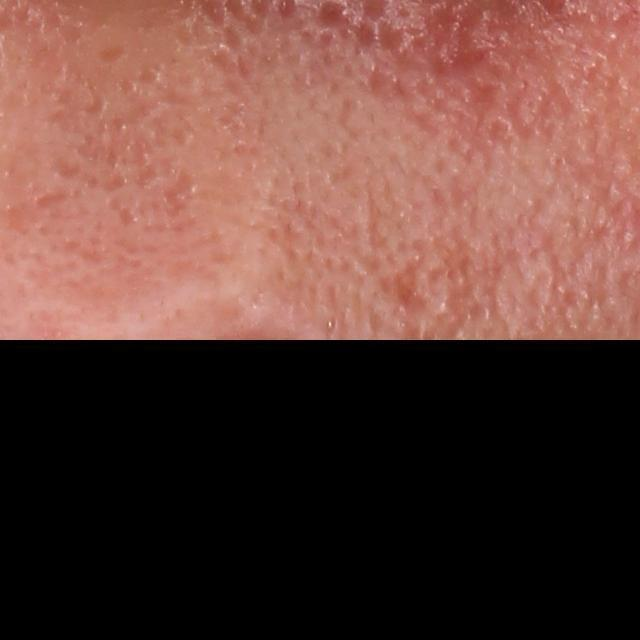atrophic_scar: (40, 75, 160, 187), (414, 216, 498, 363), (381, 233, 436, 319), (162, 164, 199, 213), (363, 186, 388, 255), (46, 155, 86, 183)
